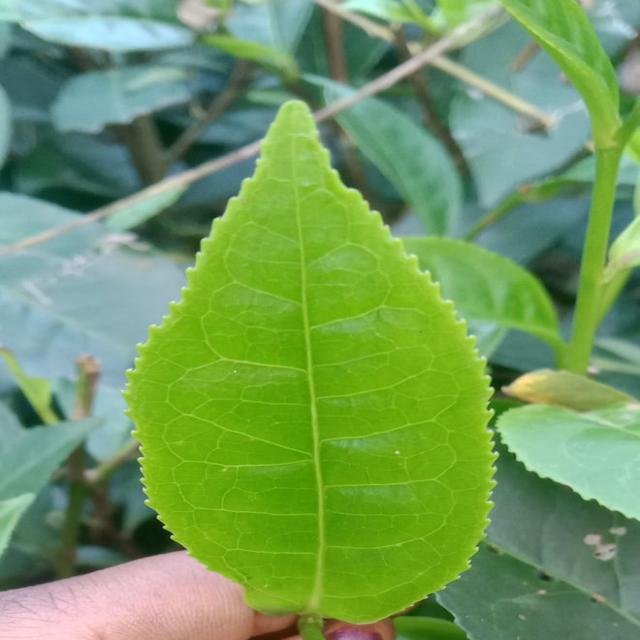Category B(2-4 days): (112, 89, 510, 634)
